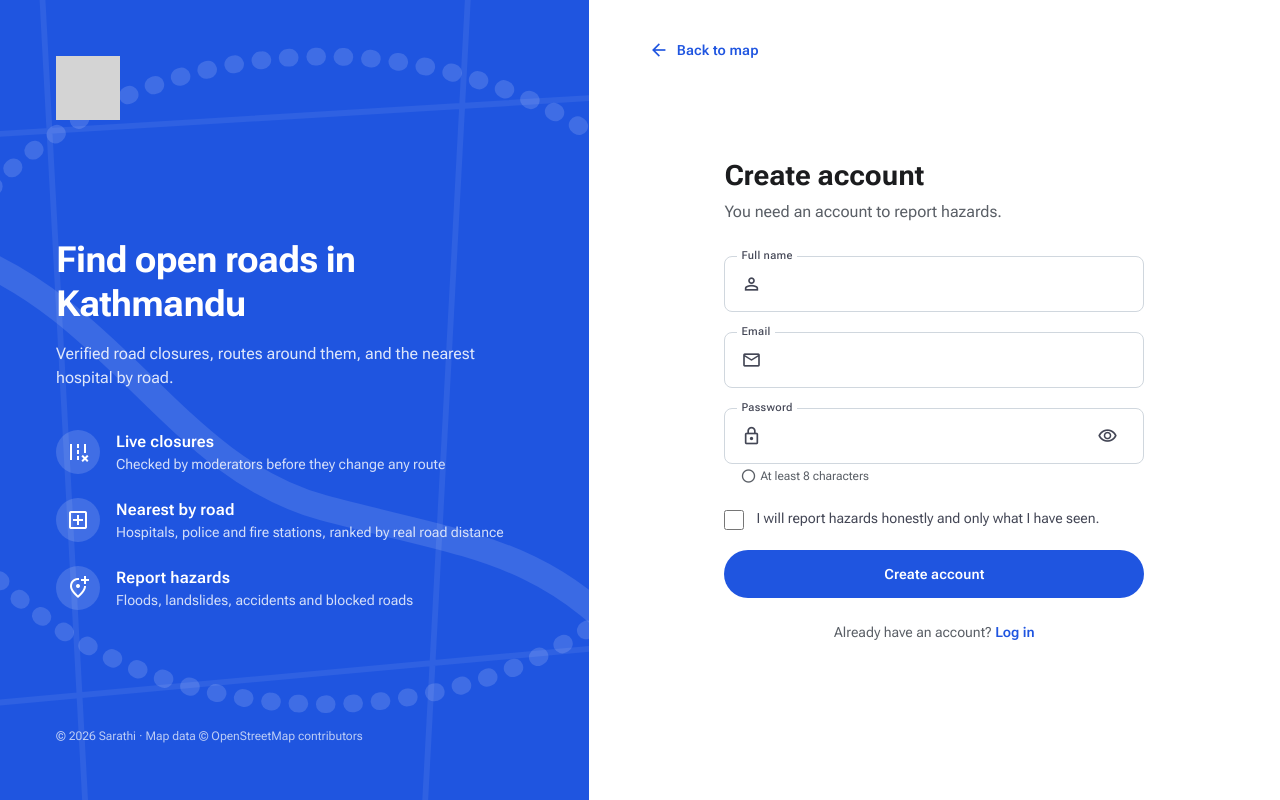
sign up › offers to log in when the email is taken
The image size is (1280, 800).
In the field labelled "Full name": (950, 284) [773, 257, 1127, 311], type "Ramesh Karki"
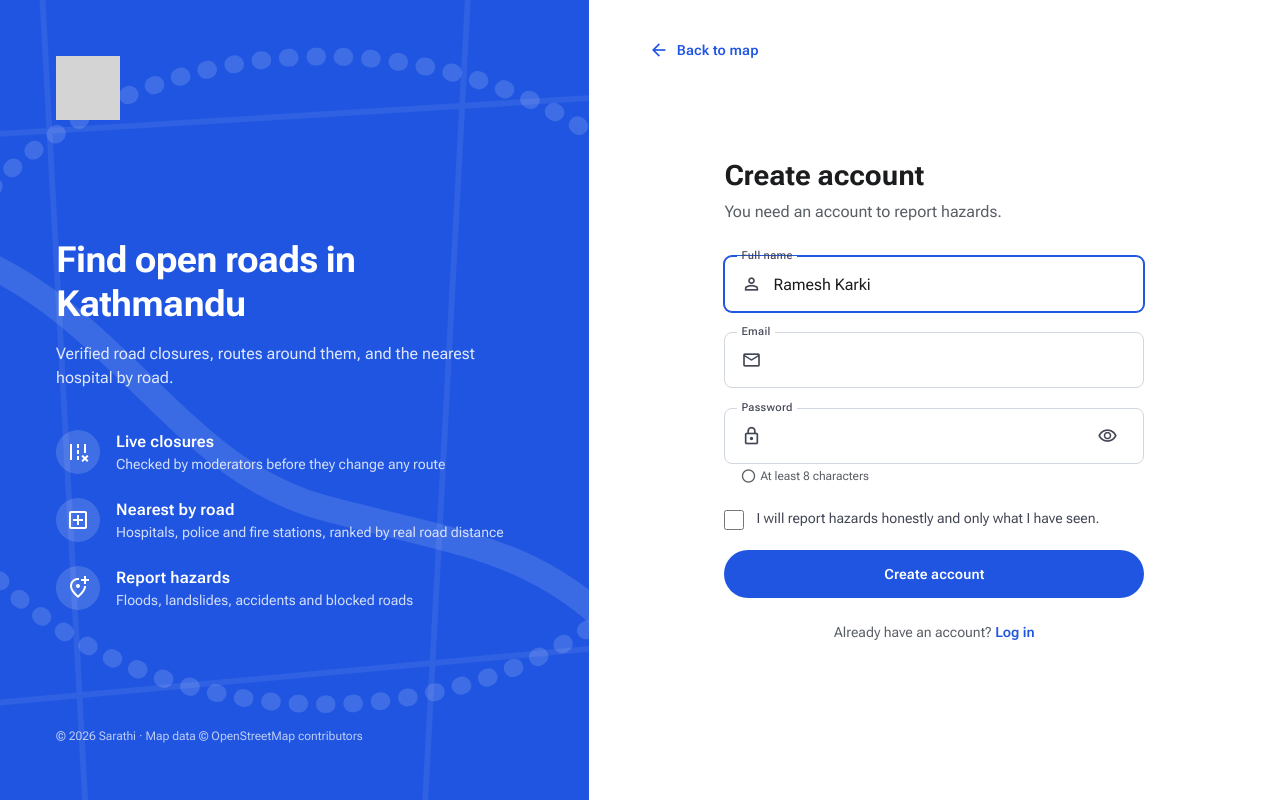
In the field labelled "Email": (950, 360) [773, 333, 1127, 387], type "ramesh.k@example.com"
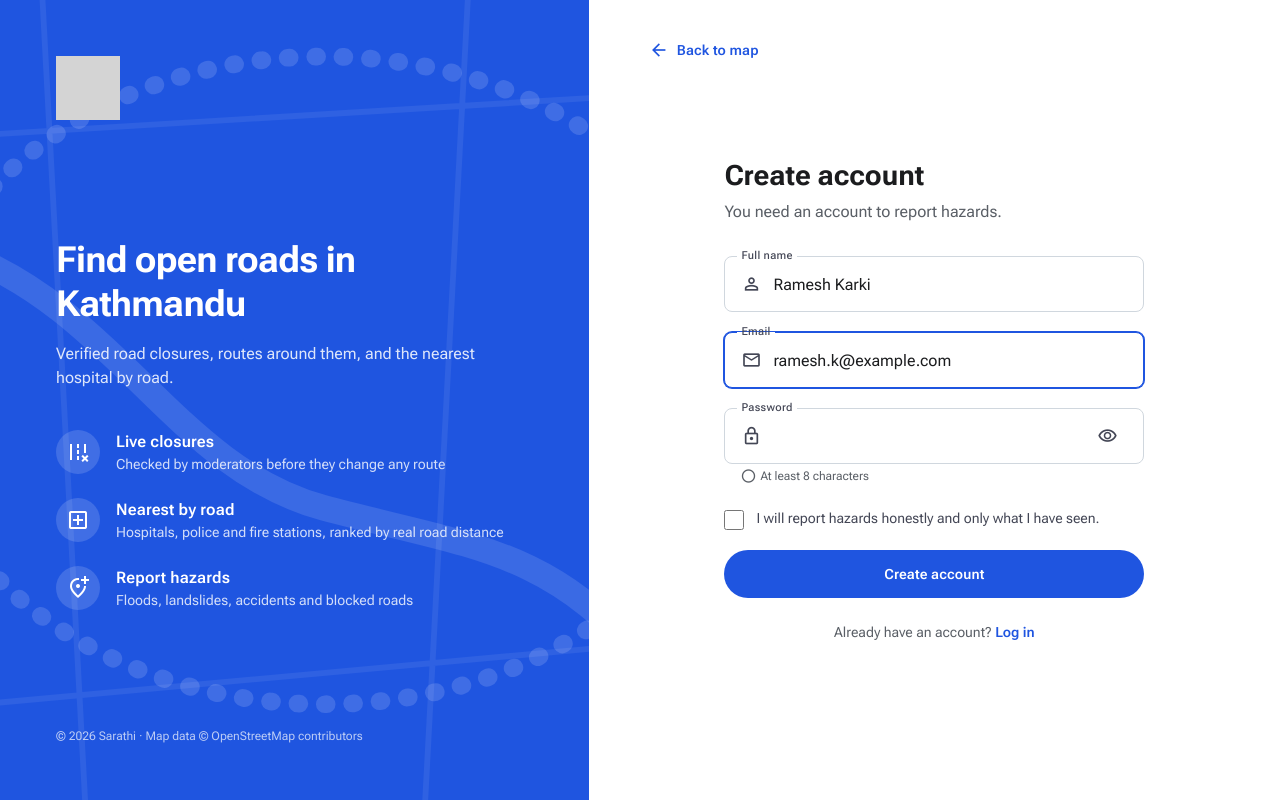
In the password field labelled "Password": (924, 436) [773, 409, 1075, 463], type "correct horse battery"
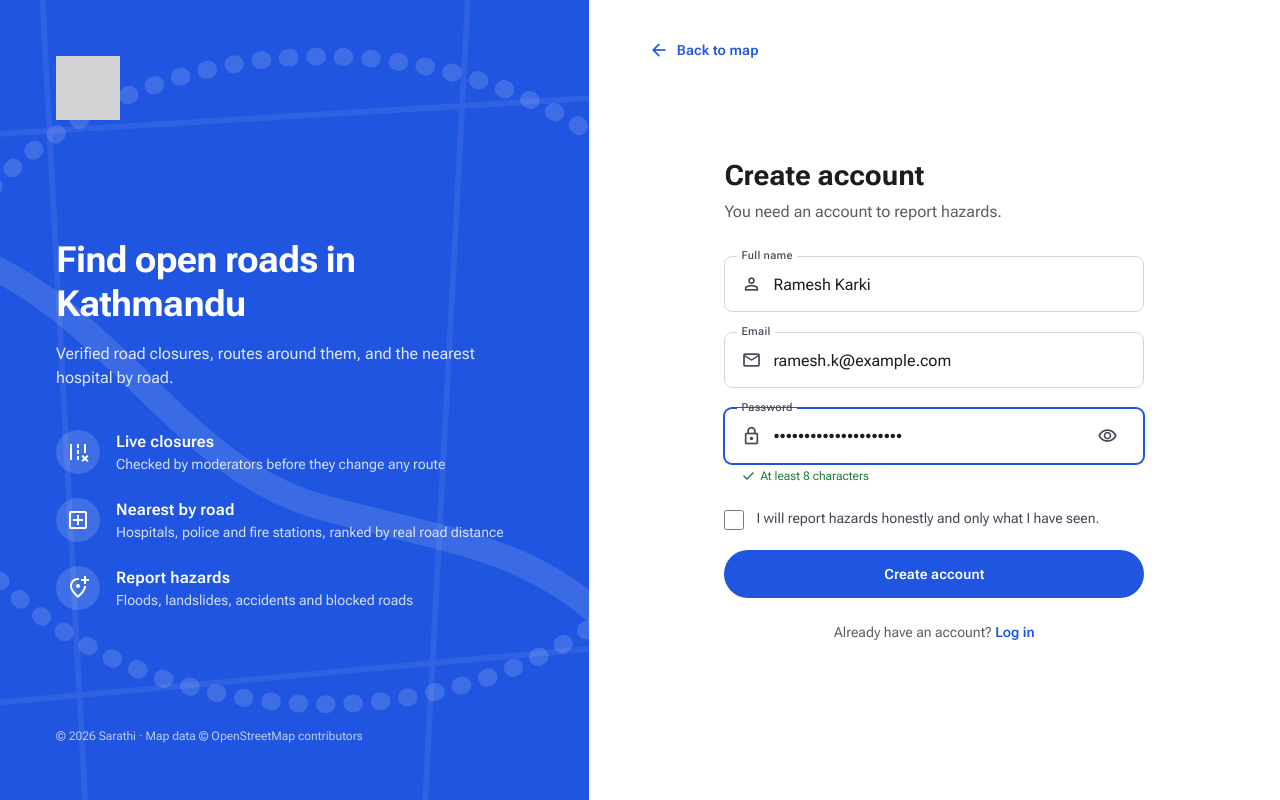
Click the checkbox: (734, 520) [724, 510, 744, 530]
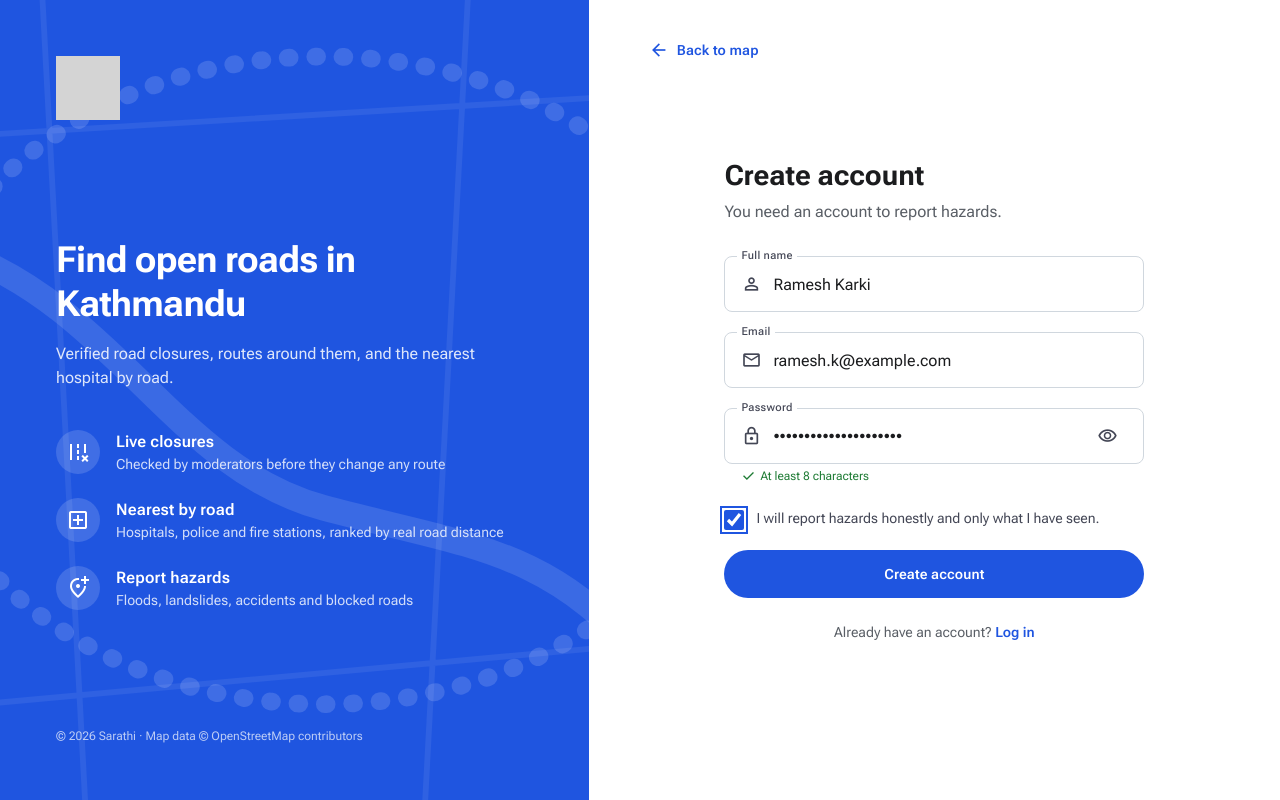
Click the button "Create account": (934, 574) [724, 550, 1144, 598]
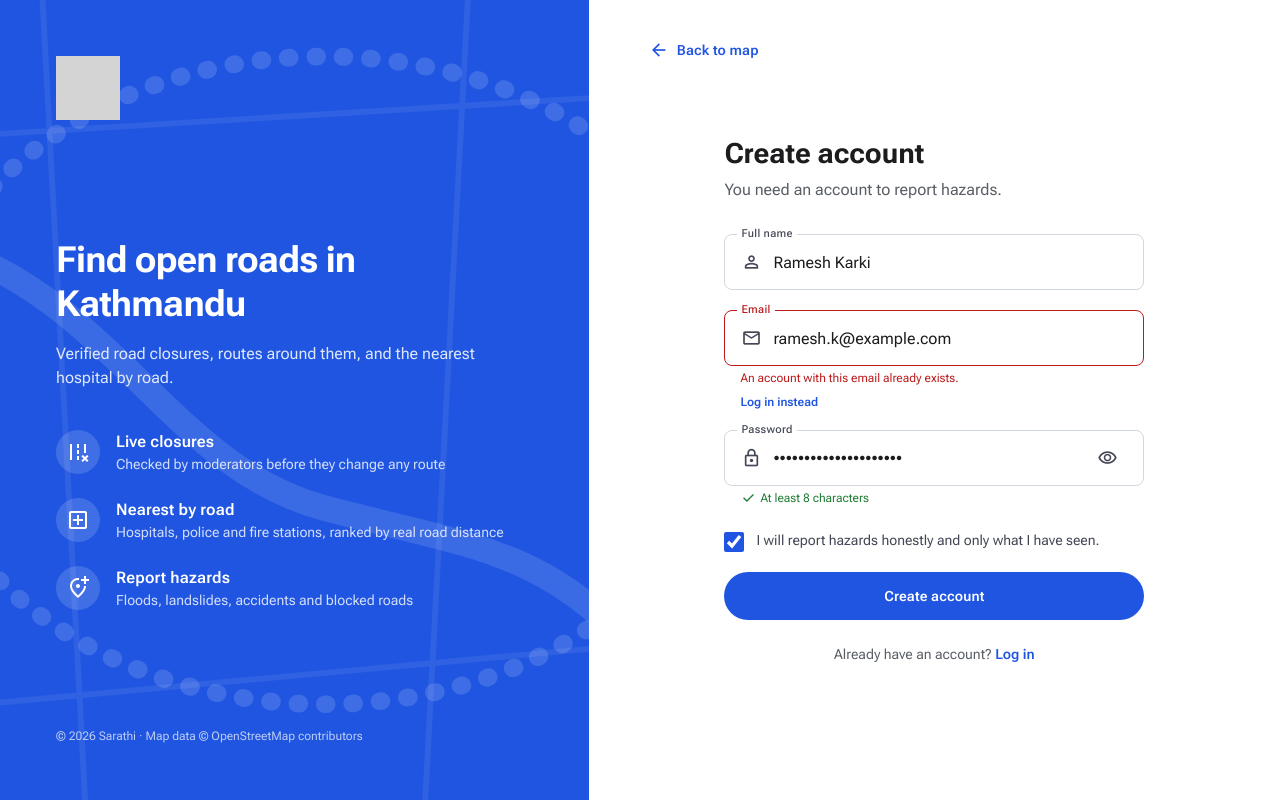
Check: the text "An account with this email already exists." is shown, box [740, 371, 959, 385]
